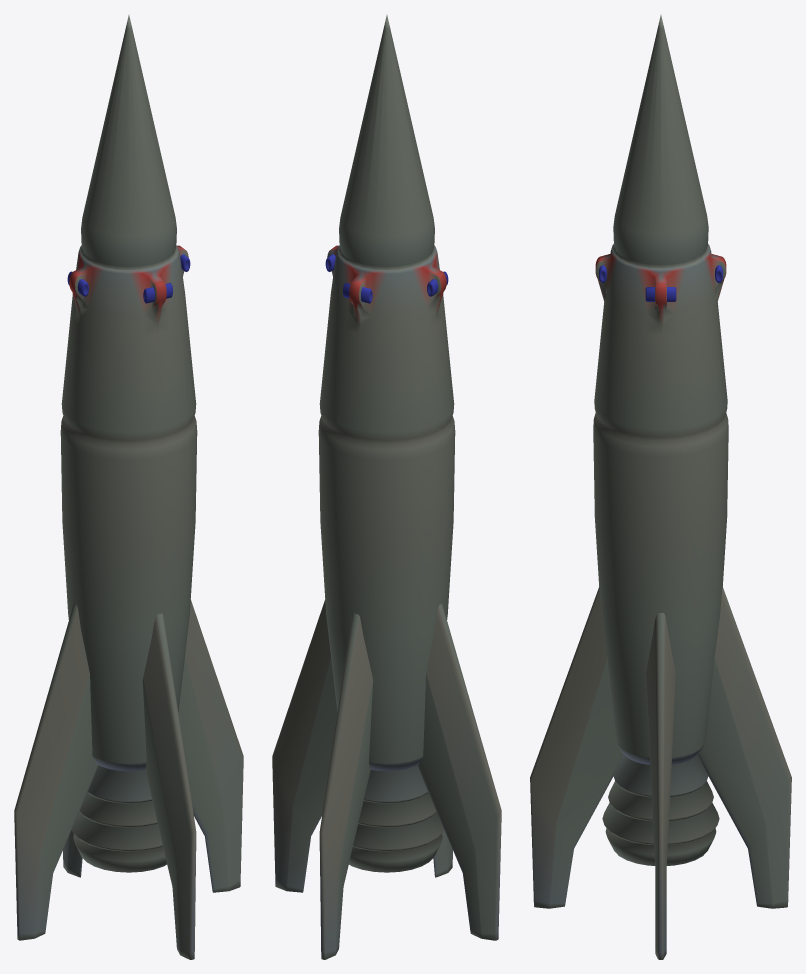
Rendered from SM_Rocket.FBX.
The picture shows the model from 3 angles, left to right: view 1: azimuth 30°, elevation 25°; view 2: azimuth 150°, elevation 25°; view 3: azimuth 270°, elevation 25°; orthographic projection.
Parts seen in each view (by area): view 1: Rocket; view 2: Rocket; view 3: Rocket.
Part boxes in pixels (x1,y1,x2,y2): Rocket: [14, 15, 243, 959]; Rocket: [272, 15, 501, 959]; Rocket: [530, 15, 791, 959].
Size of the model in its own units: 15.34 by 15.34 by 57.66.
